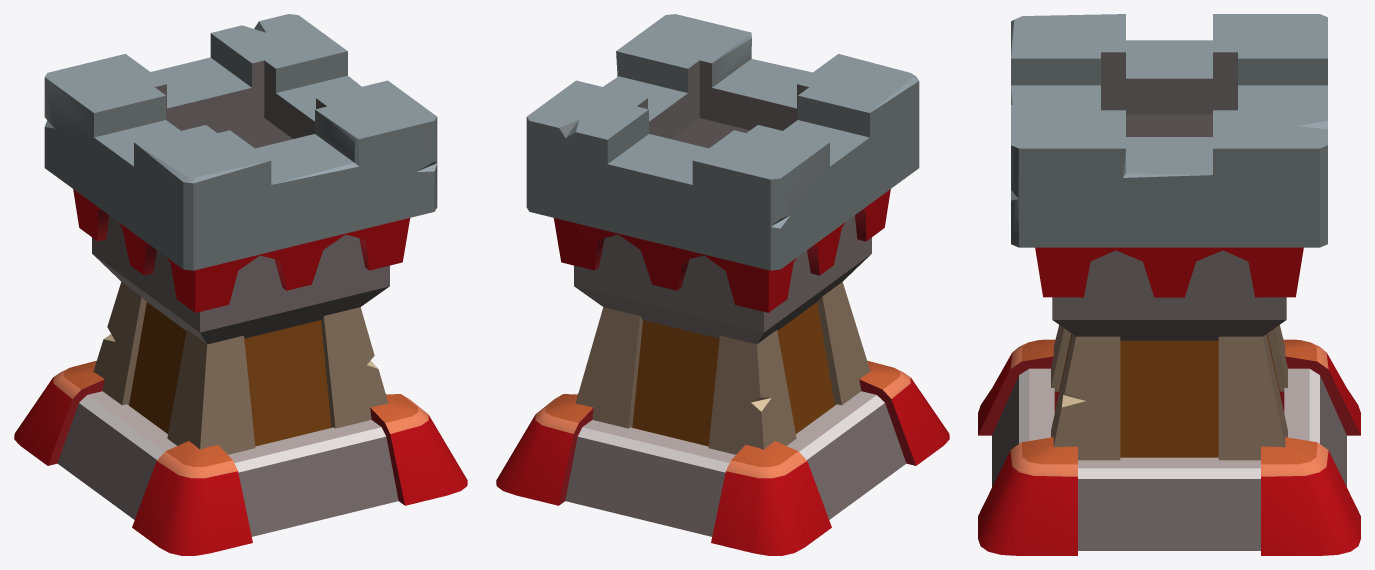
File: Boss_Tower.fbx
The picture shows the model from 3 angles, left to right: view 1: azimuth 30°, elevation 25°; view 2: azimuth 150°, elevation 25°; view 3: azimuth 270°, elevation 25°; orthographic projection. The views are drawn at different scales.
Parts seen in each view (by area): view 1: Color_04, Color_05, Color_03, Color_06, Color_02, Color_01; view 2: Color_04, Color_05, Color_03, Color_06, Color_02, Color_01; view 3: Color_04, Color_05, Color_03, Color_06, Color_02, Color_01.
Boxes of the visible parts, x1=… form: Color_04: x1=44, y1=14, x2=437, y2=270; Color_05: x1=57, y1=302, x2=398, y2=536; Color_03: x1=14, y1=360, x2=467, y2=555; Color_06: x1=93, y1=282, x2=388, y2=454; Color_02: x1=92, y1=215, x2=389, y2=344; Color_01: x1=73, y1=189, x2=410, y2=312; Color_04: x1=526, y1=14, x2=919, y2=270; Color_05: x1=565, y1=302, x2=906, y2=536; Color_03: x1=496, y1=360, x2=949, y2=555; Color_06: x1=575, y1=282, x2=870, y2=454; Color_02: x1=574, y1=215, x2=871, y2=344; Color_01: x1=553, y1=189, x2=890, y2=312; Color_04: x1=1011, y1=14, x2=1327, y2=247; Color_05: x1=992, y1=333, x2=1346, y2=550; Color_03: x1=978, y1=339, x2=1360, y2=555; Color_06: x1=1051, y1=325, x2=1287, y2=460; Color_02: x1=1052, y1=250, x2=1286, y2=340; Color_01: x1=1035, y1=247, x2=1303, y2=297.
Size of the model in its own units: 23.73 by 27.24 by 23.96.
